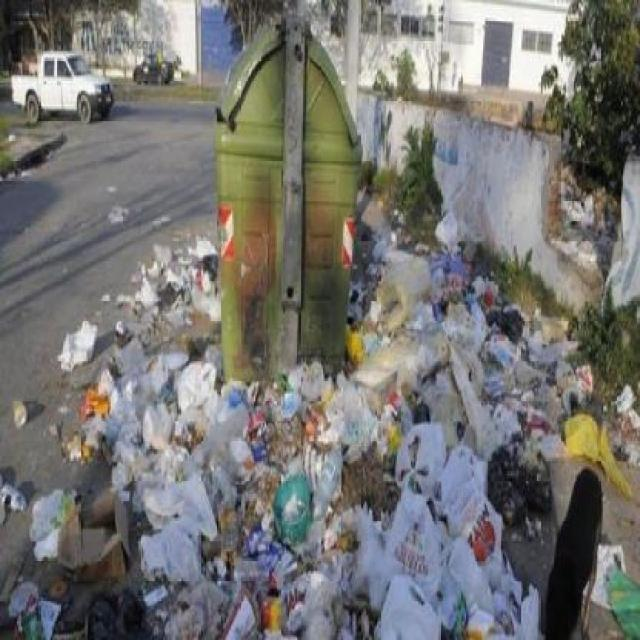garbage: (117, 375, 494, 638), (377, 234, 516, 374), (523, 316, 619, 469), (140, 249, 215, 372), (35, 492, 110, 588), (503, 454, 547, 525), (603, 559, 639, 639), (348, 290, 375, 379), (62, 320, 98, 373)
